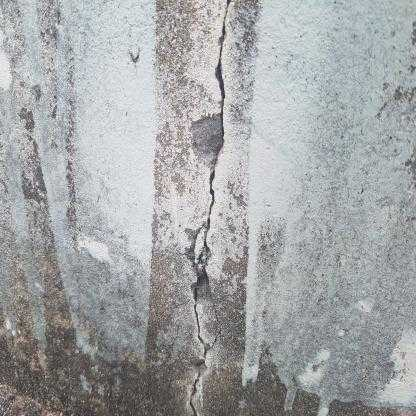crack: (189, 0, 231, 414)
